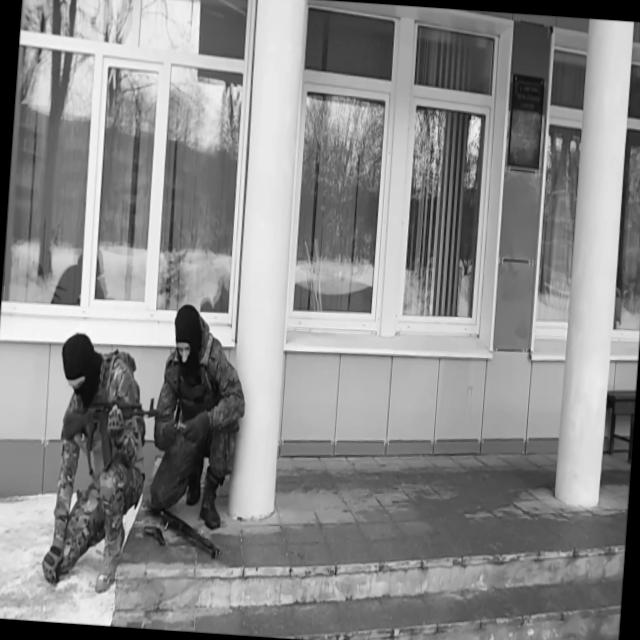gun: (58, 389, 162, 476), (138, 492, 225, 562), (141, 522, 167, 550)
person with a gun: (39, 328, 163, 596), (148, 302, 252, 532)
